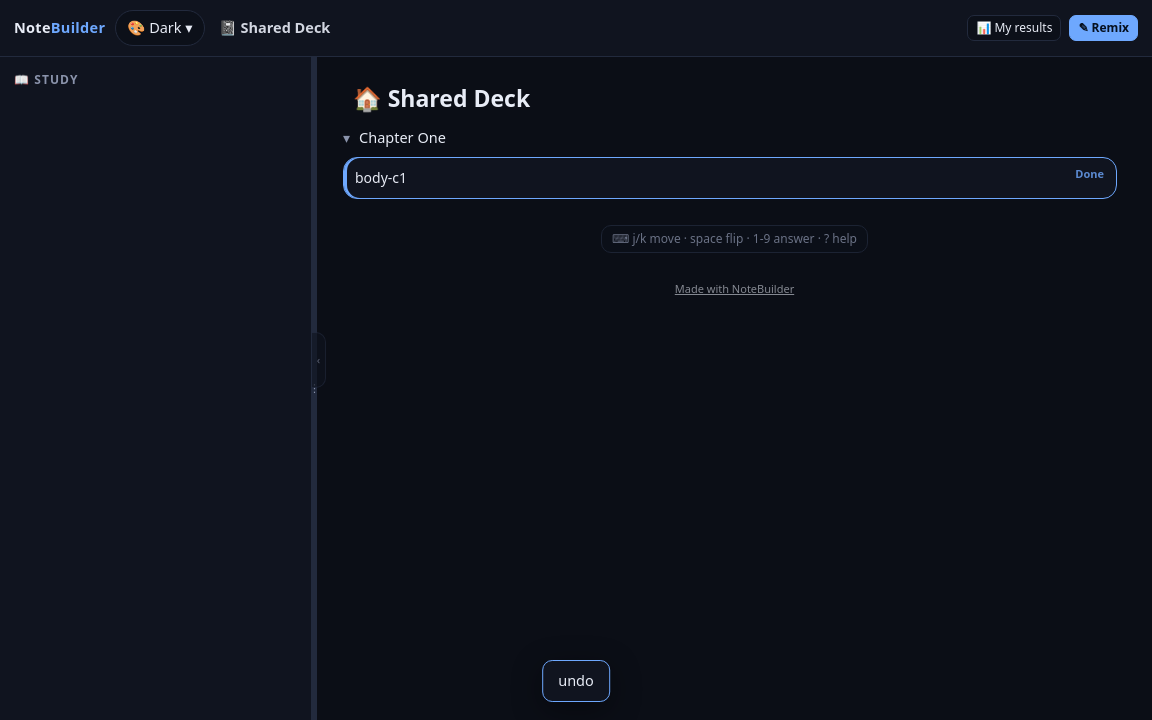
it: Reader — review fixes › offers the JSON export button only after Remix
Step 1. Click the button "✎ Remix" → [1104, 28], box [1069,15,1138,41]
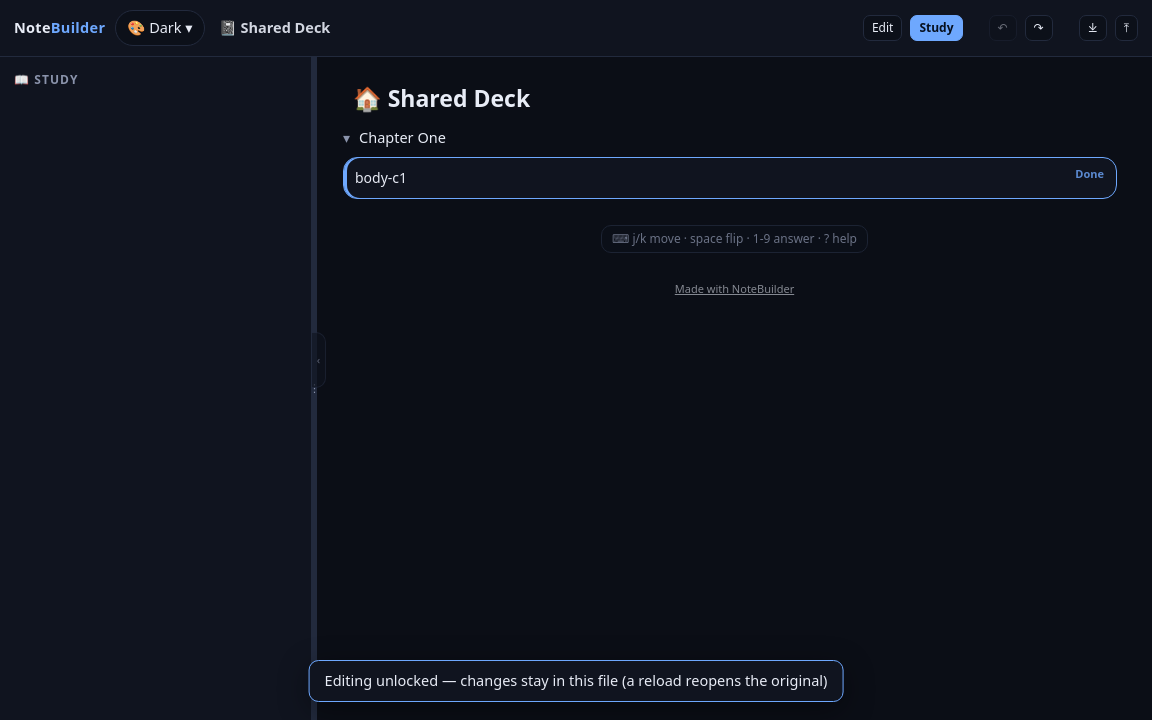
Result: the button "⤓" is shown at [1079,15,1107,41]
Result: the button "⤒" is shown at [1115,15,1138,41]
